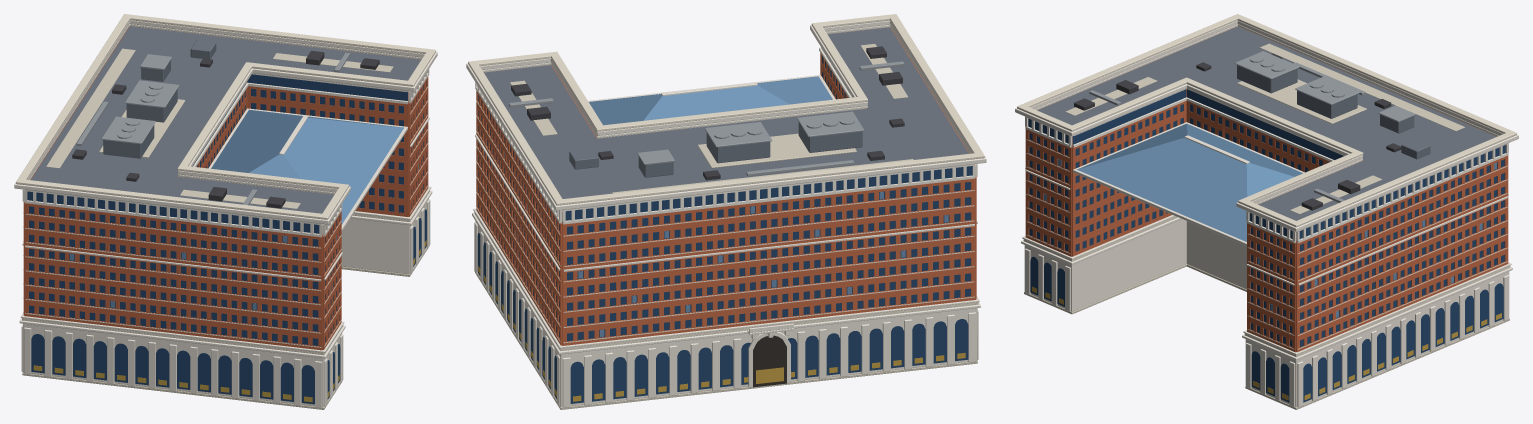
The model's file is mid_weldonly.glb.
3 renders of one model, left to right at view 1: azimuth 30°, elevation 25°; view 2: azimuth 150°, elevation 25°; view 3: azimuth 270°, elevation 25°, orthographic. The views are drawn at different scales.
Parts seen in each view (by area): view 1: grp_Toy_brick, grp_Toy_cream, grp_Toy_glass, body, grp_Toy_sand, grp_Toy_glassl_Glow, grp_Toy_stone, atrium_glass, grp_Toy_steel, grp_Toy_slate, grp_Toy_roofd, grp_Toy_gold_Glow; view 2: grp_Toy_brick, grp_Toy_cream, grp_Toy_glass, body, grp_Toy_sand, grp_Toy_glassl_Glow, grp_Toy_stone, grp_Toy_steel, grp_Toy_slate, grp_Toy_roofd, grp_Toy_gold_Glow, market_portal (+1 smaller); view 3: grp_Toy_brick, grp_Toy_cream, grp_Toy_glass, body, grp_Toy_sand, grp_Toy_glassl_Glow, grp_Toy_stone, atrium_glass, grp_Toy_steel, grp_Toy_slate, grp_Toy_roofd, grp_Toy_gold_Glow.
Part boxes in pixels (left/top/right/bottom): grp_Toy_brick: left=23, top=77, right=428, bottom=350; grp_Toy_cream: left=14, top=20, right=437, bottom=407; grp_Toy_glass: left=27, top=74, right=426, bottom=404; body: left=30, top=26, right=420, bottom=236; grp_Toy_sand: left=16, top=14, right=435, bottom=354; grp_Toy_glassl_Glow: left=70, top=112, right=418, bottom=309; grp_Toy_stone: left=22, top=48, right=429, bottom=409; atrium_glass: left=211, top=109, right=403, bottom=224; grp_Toy_steel: left=76, top=52, right=350, bottom=205; grp_Toy_slate: left=103, top=39, right=216, bottom=158; grp_Toy_roofd: left=72, top=50, right=379, bottom=208; grp_Toy_gold_Glow: left=33, top=240, right=426, bottom=402; grp_Toy_brick: left=476, top=53, right=976, bottom=345; grp_Toy_cream: left=466, top=20, right=986, bottom=407; grp_Toy_glass: left=477, top=48, right=972, bottom=403; body: left=484, top=27, right=969, bottom=223; grp_Toy_sand: left=468, top=14, right=984, bottom=350; grp_Toy_glassl_Glow: left=484, top=78, right=948, bottom=336; grp_Toy_stone: left=475, top=44, right=977, bottom=409; grp_Toy_steel: left=509, top=61, right=904, bottom=176; grp_Toy_slate: left=569, top=122, right=862, bottom=177; grp_Toy_roofd: left=511, top=46, right=904, bottom=180; grp_Toy_gold_Glow: left=478, top=266, right=965, bottom=401; market_portal: left=753, top=335, right=786, bottom=387; grp_Toy_brick: left=1025, top=100, right=1508, bottom=352; grp_Toy_cream: left=1015, top=20, right=1518, bottom=407; grp_Toy_glass: left=1028, top=89, right=1505, bottom=402; body: left=1037, top=26, right=1496, bottom=242; grp_Toy_sand: left=1017, top=14, right=1516, bottom=357; grp_Toy_glassl_Glow: left=1044, top=127, right=1496, bottom=317; grp_Toy_stone: left=1024, top=43, right=1509, bottom=409; atrium_glass: left=1077, top=123, right=1302, bottom=241; grp_Toy_steel: left=1089, top=51, right=1415, bottom=202; grp_Toy_slate: left=1237, top=65, right=1430, bottom=159; grp_Toy_roofd: left=1074, top=53, right=1401, bottom=210; grp_Toy_gold_Glow: left=1032, top=286, right=1501, bottom=400.
Size of the model in its own units: 112 by 48.7 by 112.
